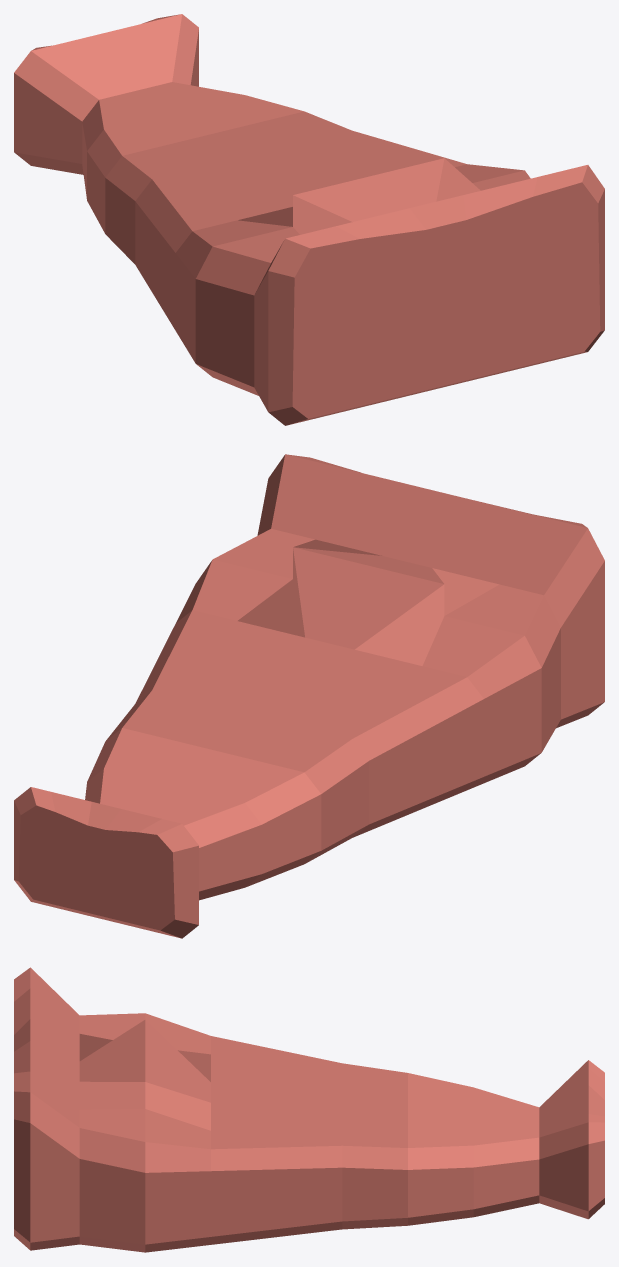
The model's file is calder_heavy_b.glb.
3 views of the same model, one above another, from view 1: azimuth 30°, elevation 25°; view 2: azimuth 150°, elevation 25°; view 3: azimuth 270°, elevation 25° (orthographic). The views are drawn at different scales.
Visible parts, largest first — view 1: calder_heavy_b; view 2: calder_heavy_b; view 3: calder_heavy_b.
Boxes of the visible parts, x1=… form: calder_heavy_b: x1=14, y1=14, x2=604, y2=425; calder_heavy_b: x1=14, y1=454, x2=604, y2=938; calder_heavy_b: x1=14, y1=967, x2=604, y2=1252.
Size of the model in its own units: 4 by 2.07 by 7.
